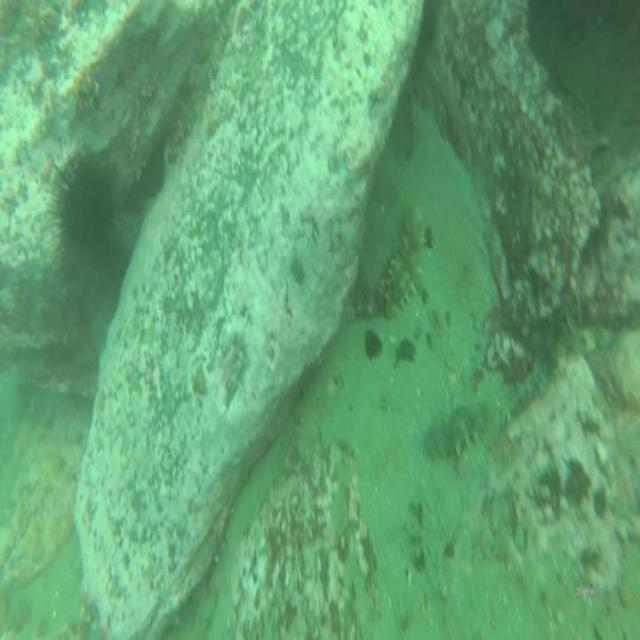echinus: (55, 144, 117, 270)
holothurian: (372, 196, 422, 322), (428, 396, 507, 459)
